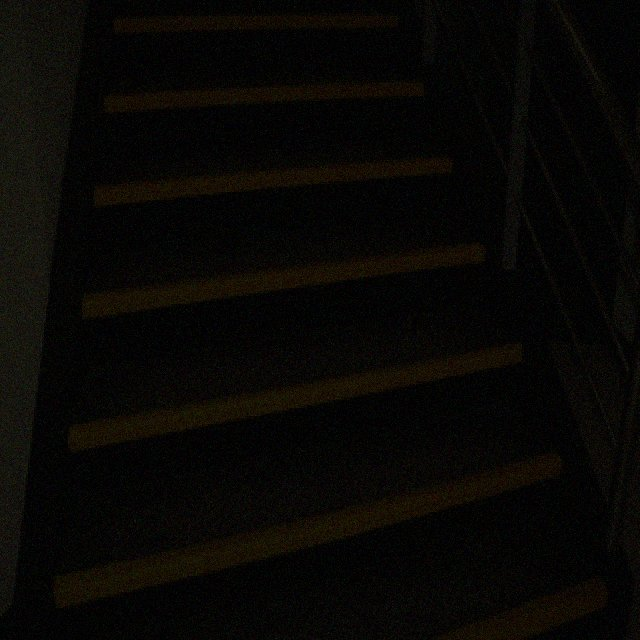stair: (48, 0, 609, 639)
